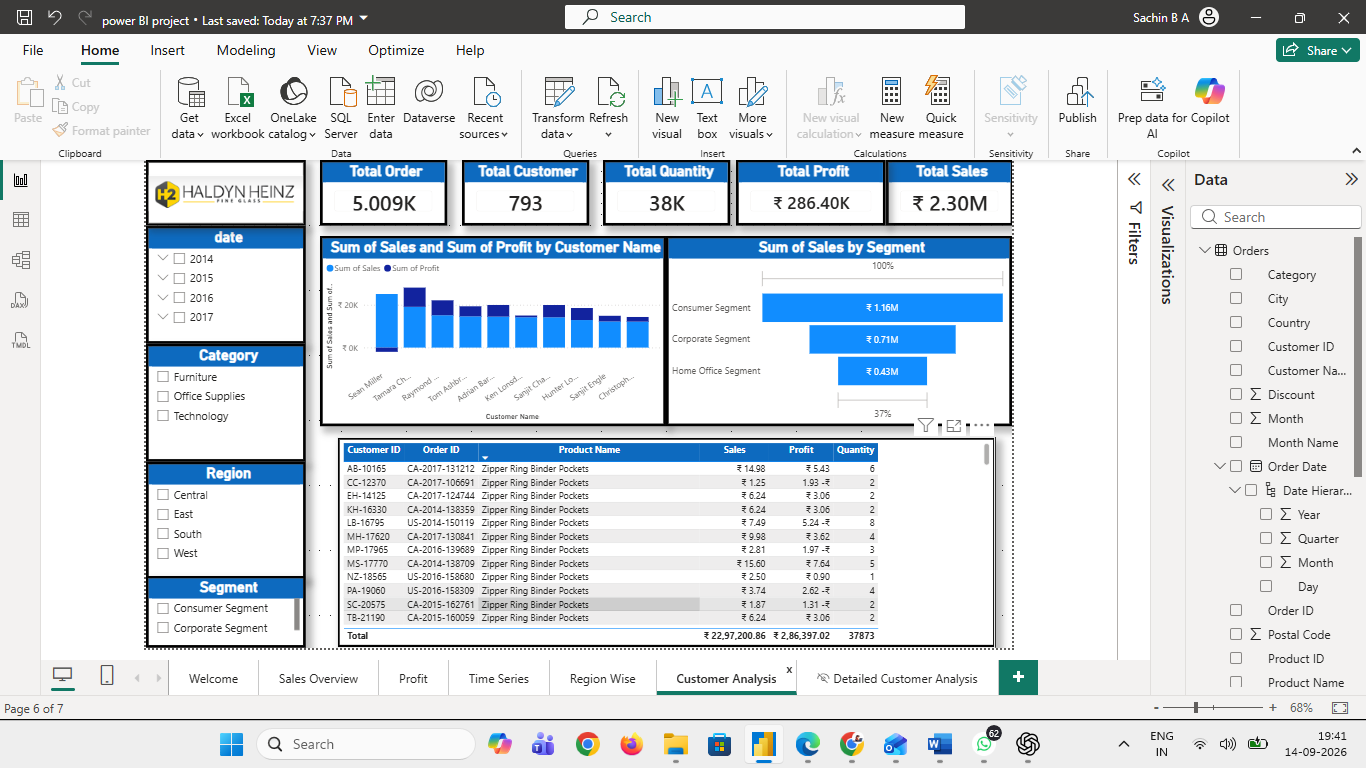

Layout of this report page (visuals, bound fields, positions):
{"tool":"powerbi","page":{"name":"Customer Analysis","canvas":[1280,720],"ordinal":5},"visuals":[{"type":"cardVisual","title":"Total Sales","fields":{"Data":["Sum(Orders.Sales)"]},"box":[1092.4,0,187.6,97.5],"z":0},{"type":"cardVisual","title":"Total Quantity","fields":{"Data":["Sum(Orders.Quantity)"]},"box":[675.2,0,187.6,97.5],"z":1000},{"type":"cardVisual","title":"Total Profit","fields":{"Data":["Sum(Orders.Profit)"]},"box":[871.4,0,221.4,97.1],"z":2000},{"type":"cardVisual","title":"Total Order","fields":{"Data":["Count(Orders.Order ID)"]},"box":[257.6,0,187.6,97.5],"z":3000},{"type":"cardVisual","title":"Total Customer","fields":{"Data":["Count(Orders.Customer ID)"]},"box":[466.4,0,187.6,97.5],"z":4000},{"type":"slicer","title":"date","fields":{"Values":["Orders.Order Date.Variation.Date Hierarchy.Year","Orders.Order Date.Variation.Date Hierarchy.Quarter","Orders.Order Date.Variation.Date Hierarchy.Month","Orders.Order Date.Variation.Date Hierarchy.Day"]},"box":[0,97.5,236.3,174.3],"z":5000},{"type":"slicer","title":"Category","fields":{"Values":["Orders.Category"]},"box":[0,271.8,236.3,174.3],"z":6000},{"type":"slicer","title":"Region","fields":{"Values":["Orders.Region"]},"box":[0,446,236.3,174.3],"z":7000},{"type":"slicer","title":"Segment","fields":{"Values":["Orders.Segment"]},"box":[0,613.7,236.3,106.3],"z":8000},{"type":"image","box":[0,0,236.3,97.5],"z":9000},{"type":"columnChart","fields":{"Category":["Orders.Customer Name"],"Y":["Sum(Orders.Sales)","Sum(Orders.Profit)"]},"box":[257.1,112.9,511.4,281.4],"z":10000},{"type":"funnel","fields":{"Category":["Orders.Segment"],"Y":["Sum(Orders.Sales)"]},"box":[768.6,112.9,511.4,281.4],"z":11000},{"type":"tableEx","fields":{"Values":["Orders.Customer ID","Orders.Order ID","Orders.Product Name","Sum(Orders.Sales)","Sum(Orders.Profit)","Sum(Orders.Quantity)"]},"box":[281.4,408.6,972.9,311.4],"z":12000}]}

Visuals, with their boxes on the page's 1280x720 design canvas (x1, y1, x2, y2). These are canvas units, not pixel positions in the 1366x768 screenshot, which may show the page scaled, cropped or inside an application window:
"Total Sales" cardVisual: Rect(1092, 0, 1280, 98)
"Total Quantity" cardVisual: Rect(675, 0, 863, 98)
"Total Profit" cardVisual: Rect(871, 0, 1093, 97)
"Total Order" cardVisual: Rect(258, 0, 445, 98)
"Total Customer" cardVisual: Rect(466, 0, 654, 98)
"date" slicer: Rect(0, 98, 236, 272)
"Category" slicer: Rect(0, 272, 236, 446)
"Region" slicer: Rect(0, 446, 236, 620)
"Segment" slicer: Rect(0, 614, 236, 720)
image: Rect(0, 0, 236, 98)
columnChart - Orders.Customer Name x Sum(Orders.Sales): Rect(257, 113, 768, 394)
funnel - Orders.Segment x Sum(Orders.Sales): Rect(769, 113, 1280, 394)
tableEx - Orders.Customer ID x Orders.Order ID: Rect(281, 409, 1254, 720)
